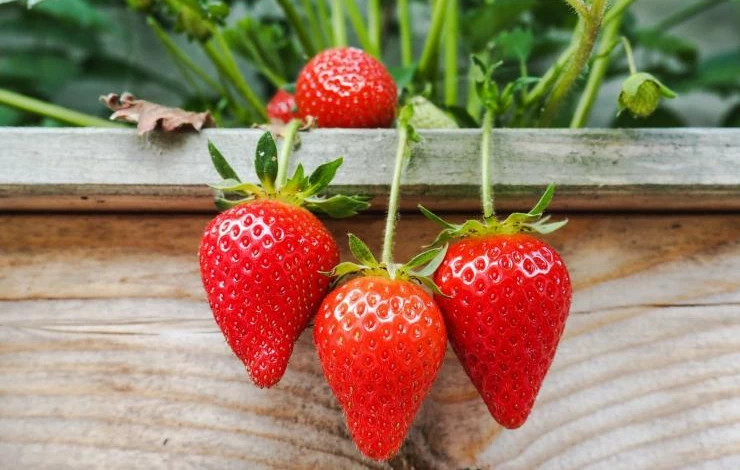peduncle: (381, 105, 418, 265), (276, 119, 301, 190), (480, 108, 494, 218)
strawberry: (199, 121, 366, 386), (314, 249, 446, 459), (434, 233, 570, 427), (295, 47, 396, 127), (266, 89, 296, 123)
